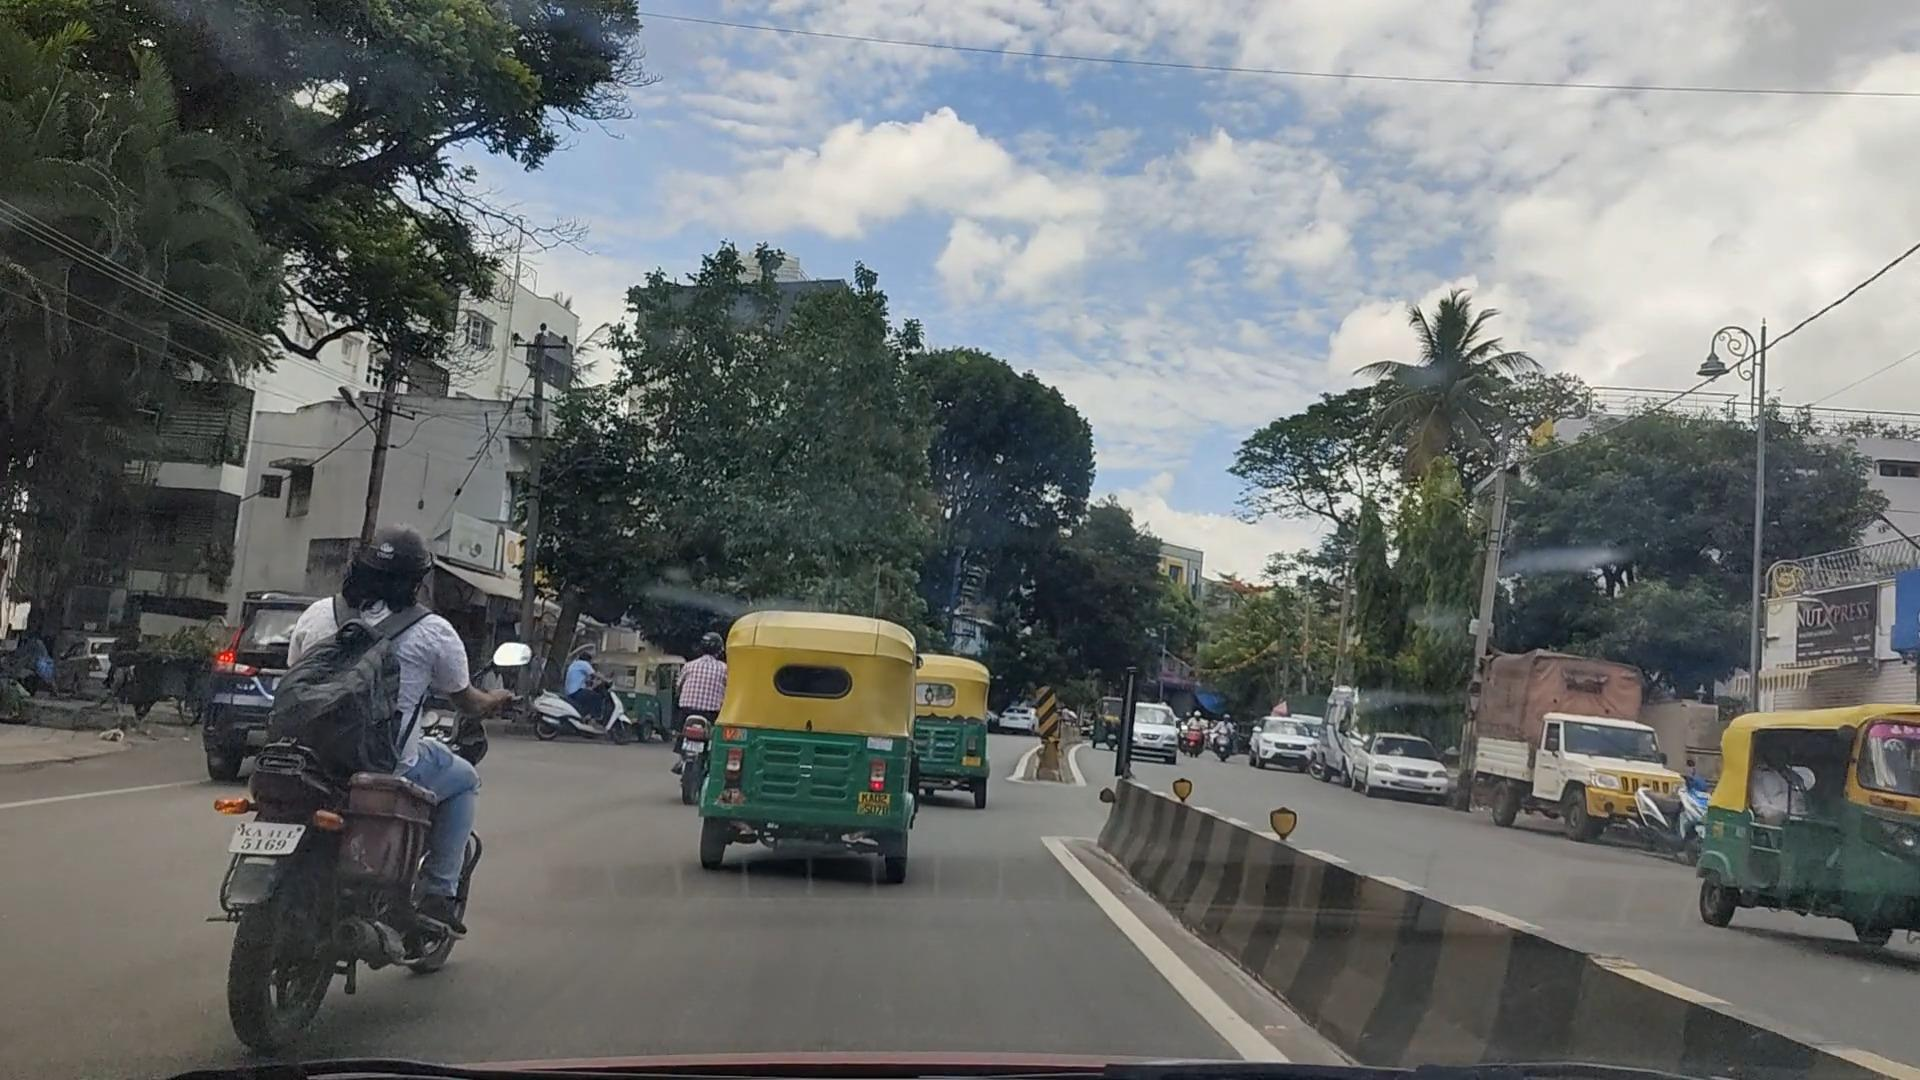LMV: (214, 580, 508, 990), (703, 603, 885, 885), (905, 675, 1006, 789), (236, 597, 280, 746)
